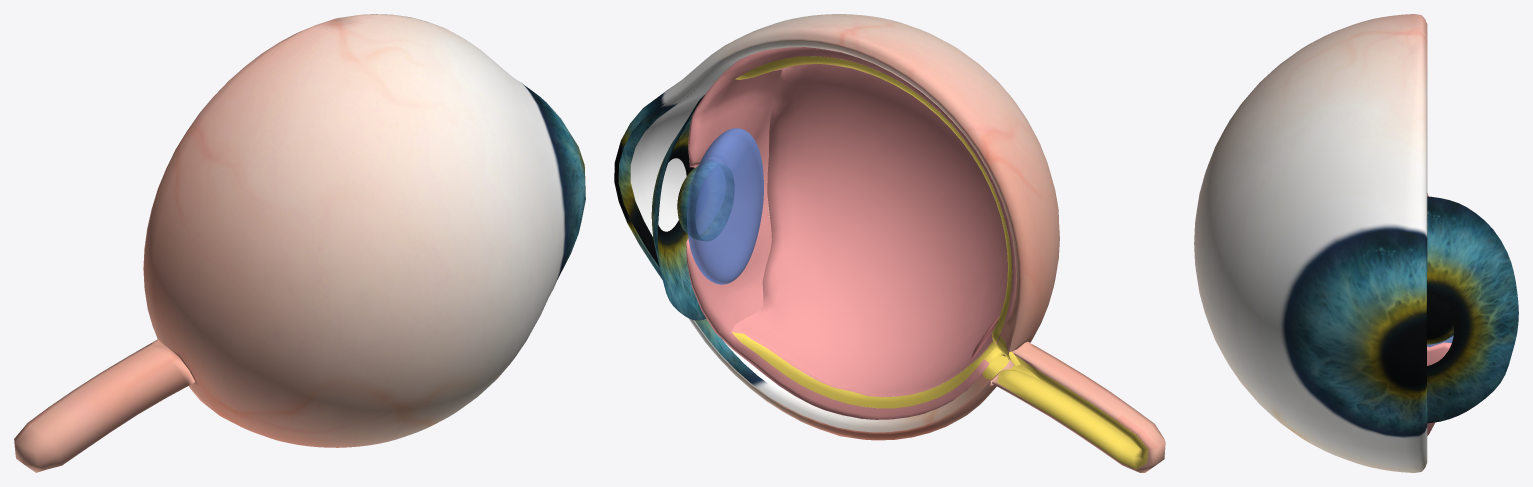
Rendered from eye.gltf.
The picture shows the model from 3 angles, left to right: view 1: azimuth 30°, elevation 25°; view 2: azimuth 150°, elevation 25°; view 3: azimuth 270°, elevation 25°; orthographic projection. The views are drawn at different scales.
Bounding box in the file's own units: 2.82 × 2 × 1.4.
9 materials, 3 textured.
